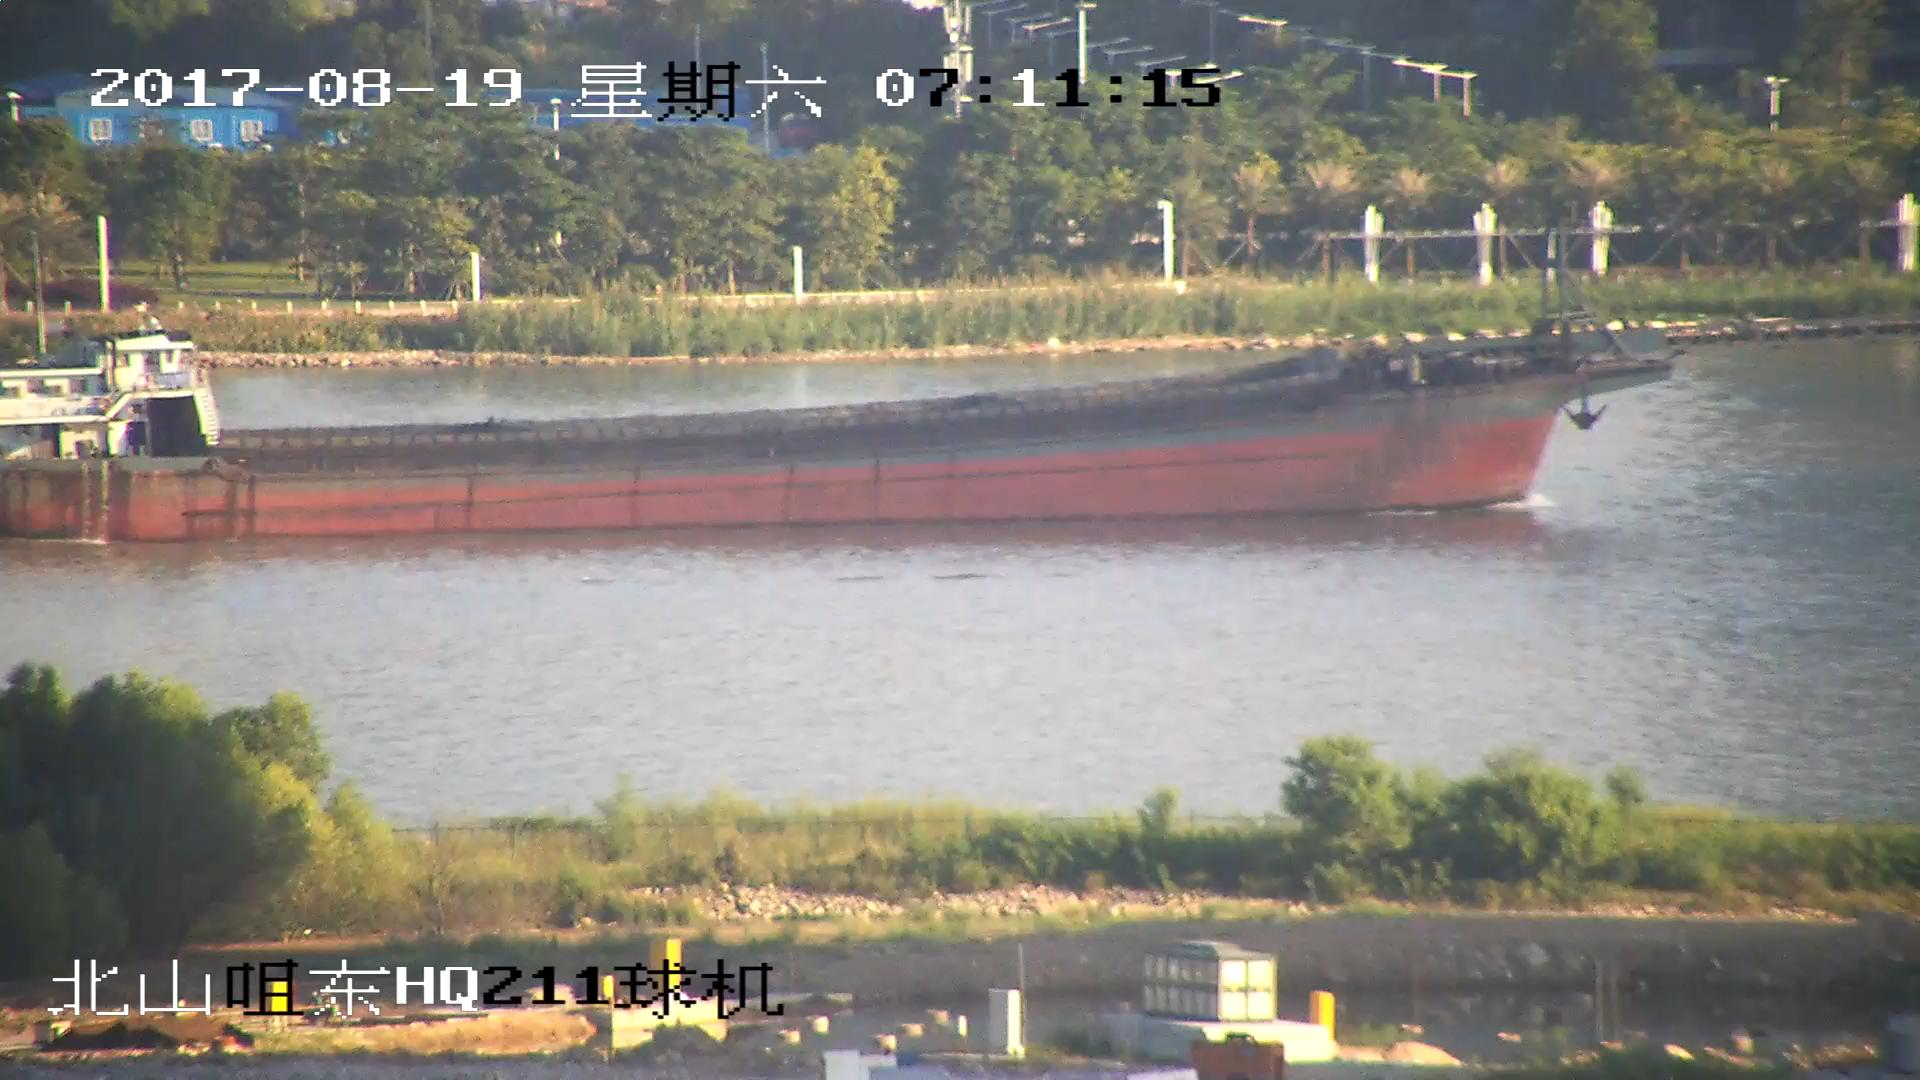bulk cargo carrier: (1, 235, 1920, 534)
